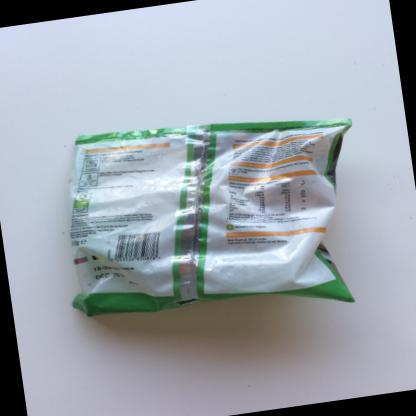Plastic film: (67, 118, 355, 317)
